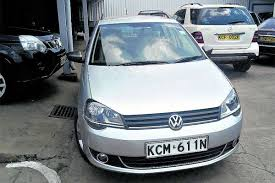licencePlate: (145, 135, 210, 156)
